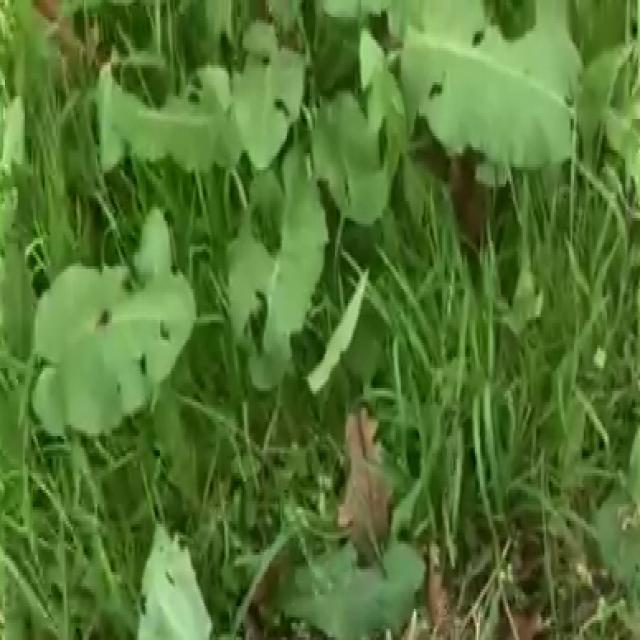organic waste: (94, 0, 595, 320), (117, 374, 436, 640), (3, 182, 216, 448)
